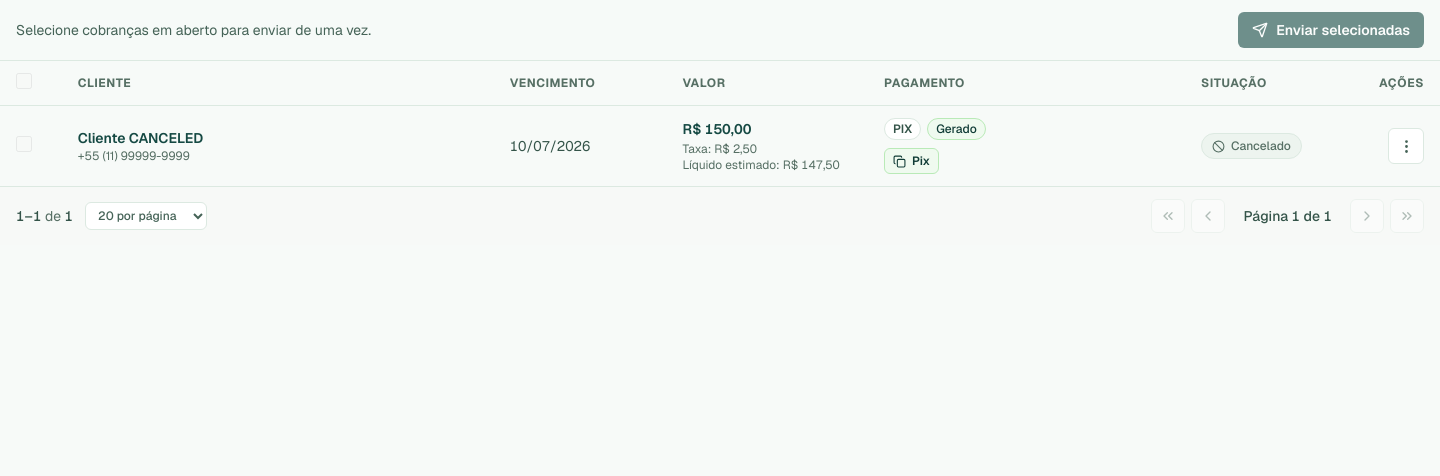
Test: InvoiceTable row actions › allows manual replacement when Efí expired the current charge
Click the button named "Abrir ações da cobrança de Cliente CANCELED" at (1406, 146), box x1=1388 y1=128 x2=1424 y2=164
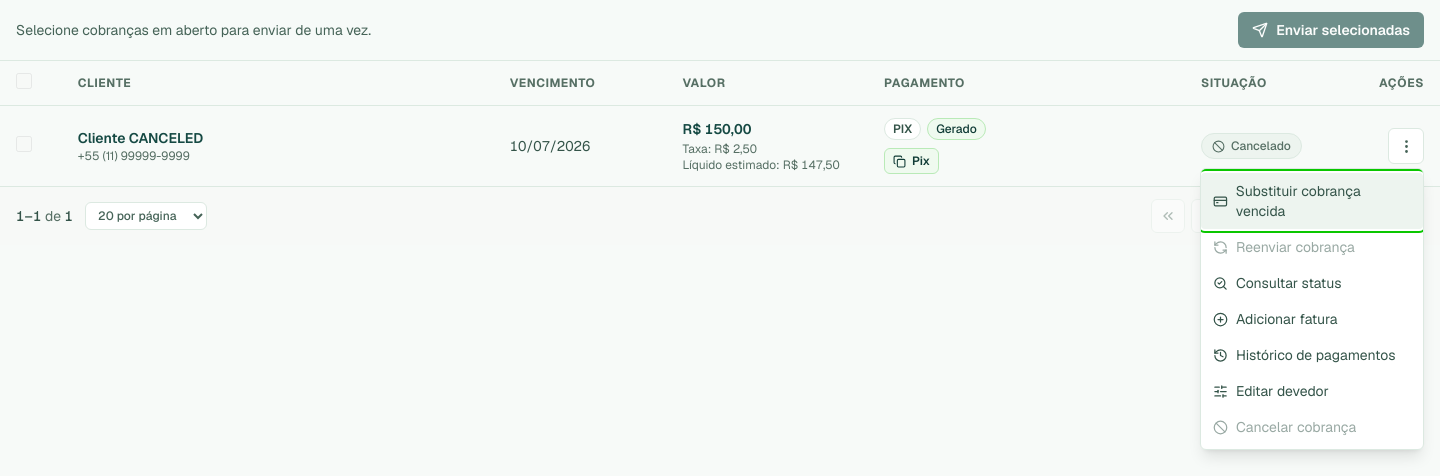
Now the menu item "Substituir cobrança vencida" is enabled, box x1=1201 y1=173 x2=1423 y2=229
